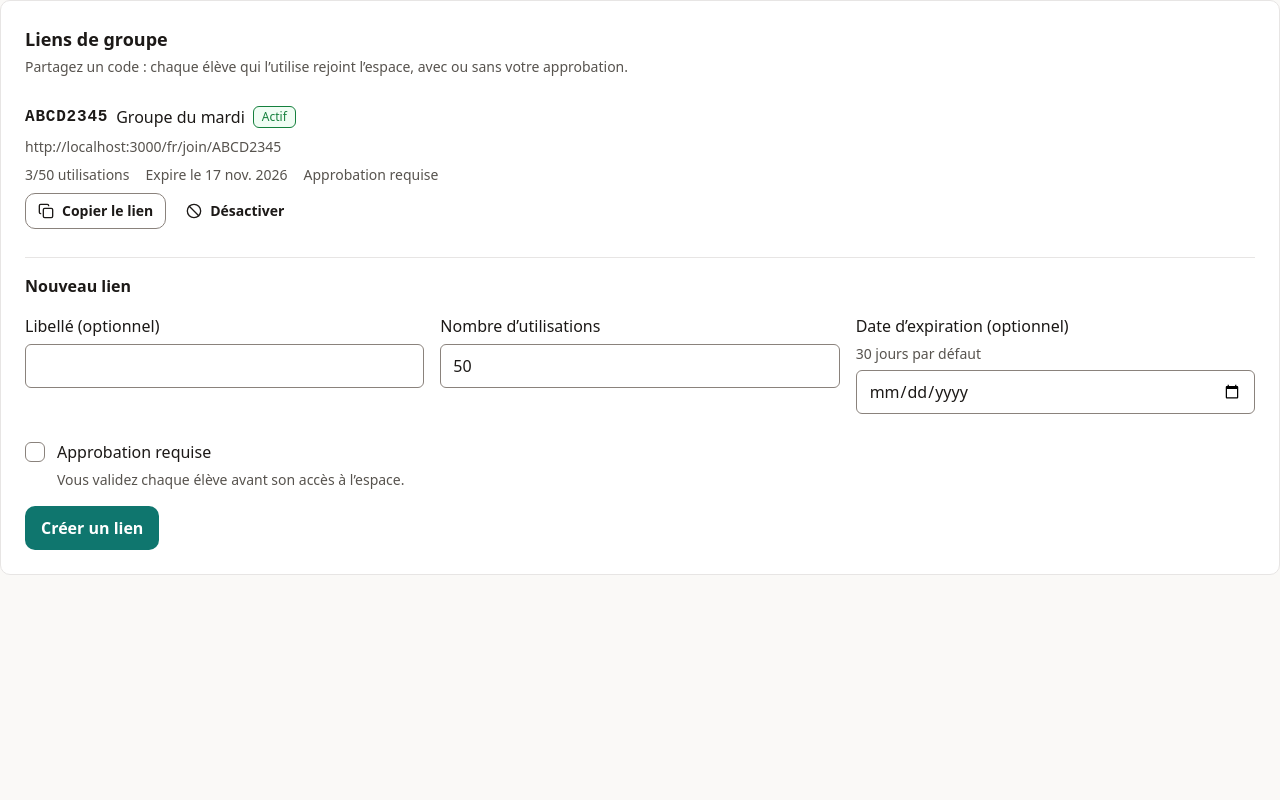
Test case: InviteLinkCard › Désactiver asks for confirmation, then disables
Click the button "Désactiver" at (235, 211), box [174, 193, 296, 229]
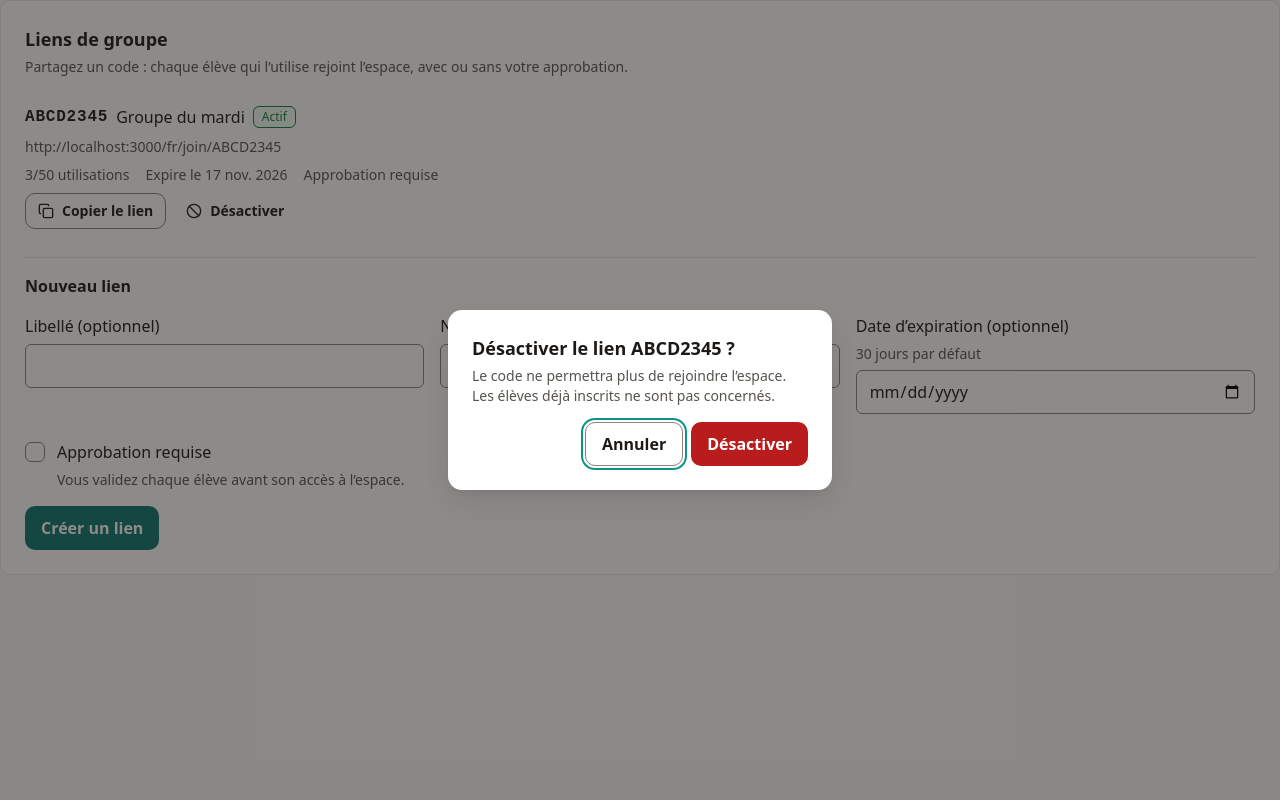
Click the button "Désactiver" at (750, 444), box [691, 422, 808, 466]
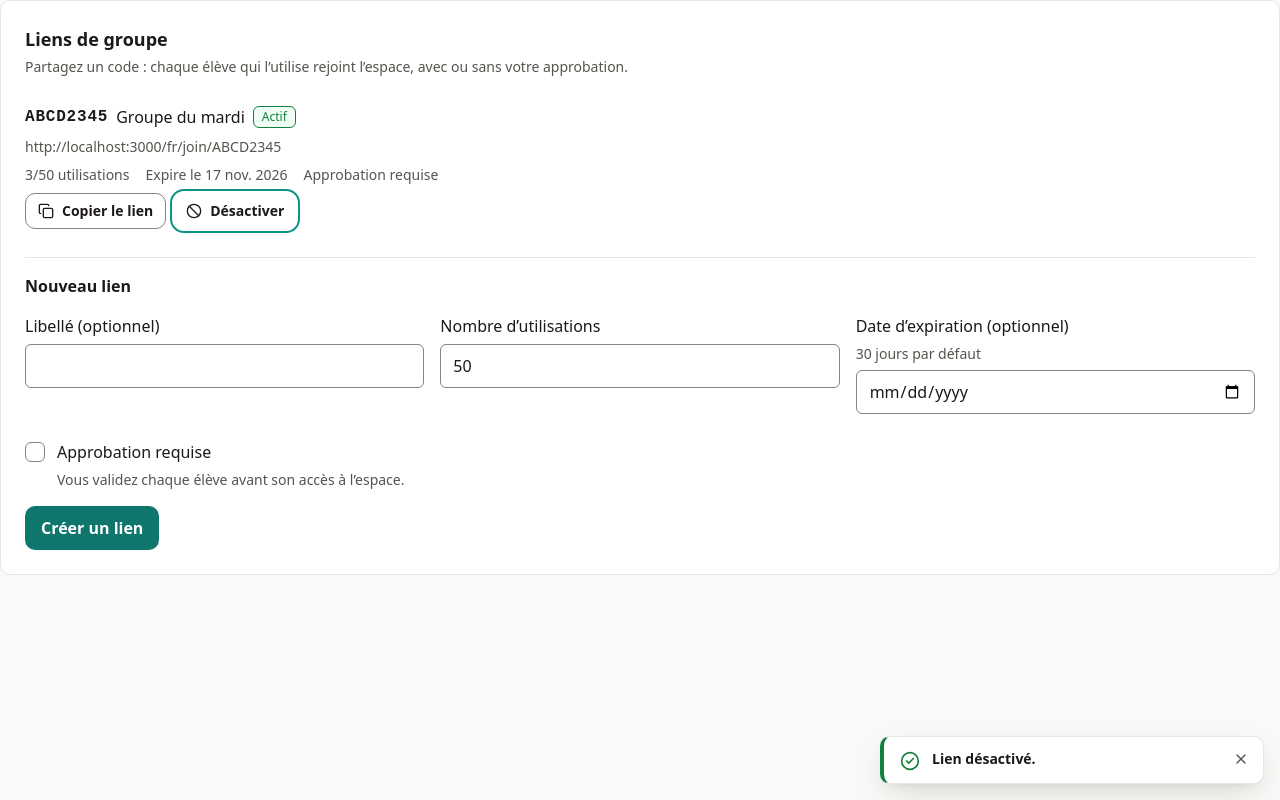
Expected: the text "Lien désactivé." is shown, [932, 749, 1036, 769]
